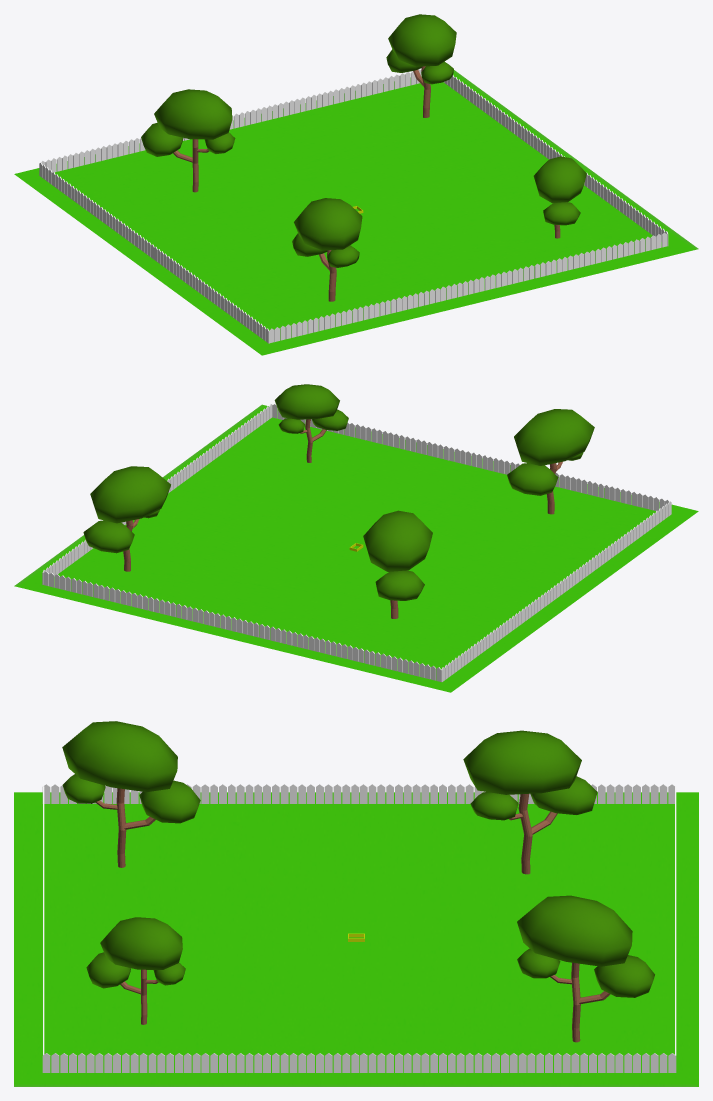
File: Outdoor_environment.gltf
3 renders of one model, top to bottom at view 1: azimuth 30°, elevation 25°; view 2: azimuth 150°, elevation 25°; view 3: azimuth 270°, elevation 25°, orthographic. The views are drawn at different scales.
Visible parts, largest first — view 1: Grass, Fance, Trees; view 2: Grass, Trees, Fance; view 3: Grass, Trees, Fance.
Boxes of the visible parts, bbox=[...] form: Grass: bbox=[14, 70, 698, 355]; Fance: bbox=[39, 69, 668, 343]; Trees: bbox=[141, 14, 586, 301]; Grass: bbox=[14, 404, 698, 692]; Trees: bbox=[83, 384, 594, 618]; Fance: bbox=[42, 404, 671, 682]; Grass: bbox=[14, 792, 698, 1086]; Trees: bbox=[62, 721, 654, 1042]; Fance: bbox=[42, 784, 676, 1072].
Size of the model in its own units: 19.83 by 4.41 by 19.5.
4 materials, 2 textured.
